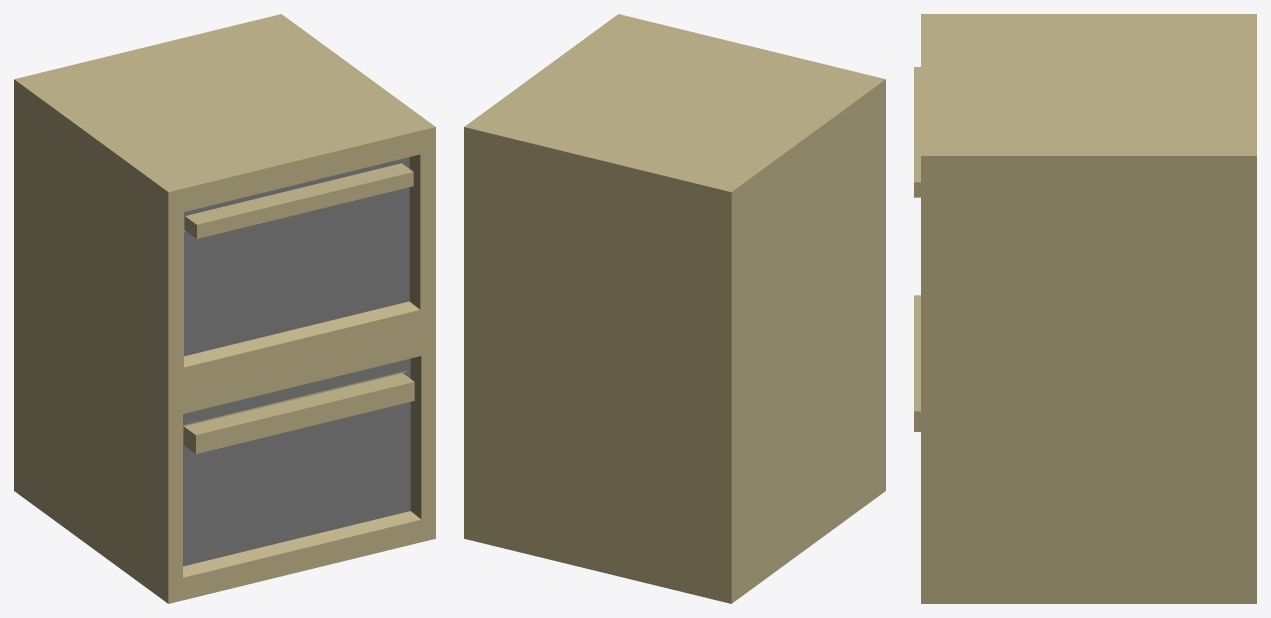
File: Yellow News.fbx
3 views of the same model, side by side, from view 1: azimuth 30°, elevation 25°; view 2: azimuth 150°, elevation 25°; view 3: azimuth 270°, elevation 25° (orthographic). The views are drawn at different scales.
Visible parts, largest first — view 1: News_Box_1___Copy_pCube1; view 2: News_Box_1___Copy_pCube1; view 3: News_Box_1___Copy_pCube1.
Part boxes in pixels (box(x1,y1,x2,y2)): News_Box_1___Copy_pCube1: box(14, 14, 435, 603); News_Box_1___Copy_pCube1: box(464, 14, 885, 603); News_Box_1___Copy_pCube1: box(914, 14, 1256, 603).
Size of the model in its own units: 0.6168 by 0.9076 by 0.6292.
